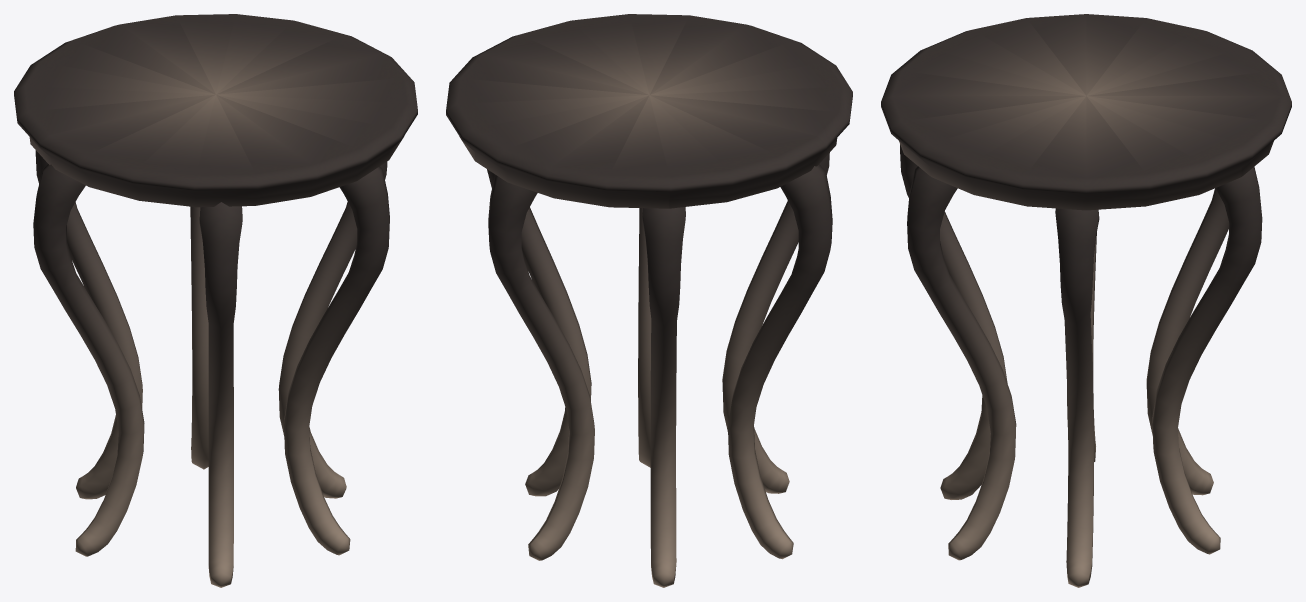
The model's file is SelectionTable.fbx.
The picture shows the model from 3 angles, left to right: view 1: azimuth 30°, elevation 25°; view 2: azimuth 150°, elevation 25°; view 3: azimuth 270°, elevation 25°; orthographic projection.
Visible parts, largest first — view 1: Table; view 2: Table; view 3: Table.
Boxes of the visible parts, box(x1,y1,x2,y2) form: Table: box(14, 14, 417, 587); Table: box(446, 14, 852, 587); Table: box(881, 14, 1291, 587).
Bounding box in the file's own units: 2.85 × 3.27 × 2.8.
